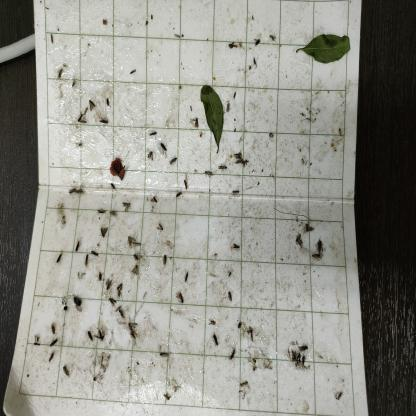prays_oleae: (234, 144, 250, 173), (200, 166, 218, 187), (73, 110, 88, 133), (49, 252, 69, 268), (70, 180, 85, 200), (108, 201, 120, 226), (291, 231, 304, 254), (298, 338, 314, 356), (126, 322, 140, 342), (127, 60, 140, 81), (123, 229, 137, 248), (314, 239, 325, 263), (218, 160, 230, 182), (238, 368, 250, 390), (94, 202, 108, 220), (156, 348, 173, 361), (233, 235, 242, 259), (154, 218, 166, 236), (250, 36, 263, 52), (121, 199, 133, 216), (230, 184, 240, 204), (81, 253, 91, 273), (287, 344, 296, 366), (172, 188, 185, 203), (84, 329, 95, 346), (128, 266, 142, 279), (52, 69, 66, 82), (72, 295, 84, 310), (212, 331, 221, 351), (182, 180, 194, 195), (104, 274, 113, 294), (160, 248, 168, 270), (96, 327, 107, 343), (96, 224, 108, 238), (132, 250, 144, 264), (178, 290, 187, 308), (100, 114, 110, 130), (268, 33, 280, 46), (146, 149, 154, 168), (48, 319, 58, 334), (109, 180, 119, 195), (296, 350, 304, 368), (49, 335, 60, 348), (98, 265, 104, 288), (47, 350, 55, 367), (158, 143, 168, 156), (228, 346, 238, 359), (74, 238, 83, 252), (112, 288, 126, 297), (88, 97, 95, 115), (224, 292, 234, 304), (183, 266, 191, 281), (193, 117, 200, 133), (246, 325, 254, 339), (146, 198, 163, 204), (117, 308, 125, 320), (170, 156, 180, 165), (69, 77, 77, 88), (109, 298, 117, 309), (209, 318, 219, 326), (90, 248, 98, 258), (148, 133, 160, 137), (63, 349, 64, 372)
